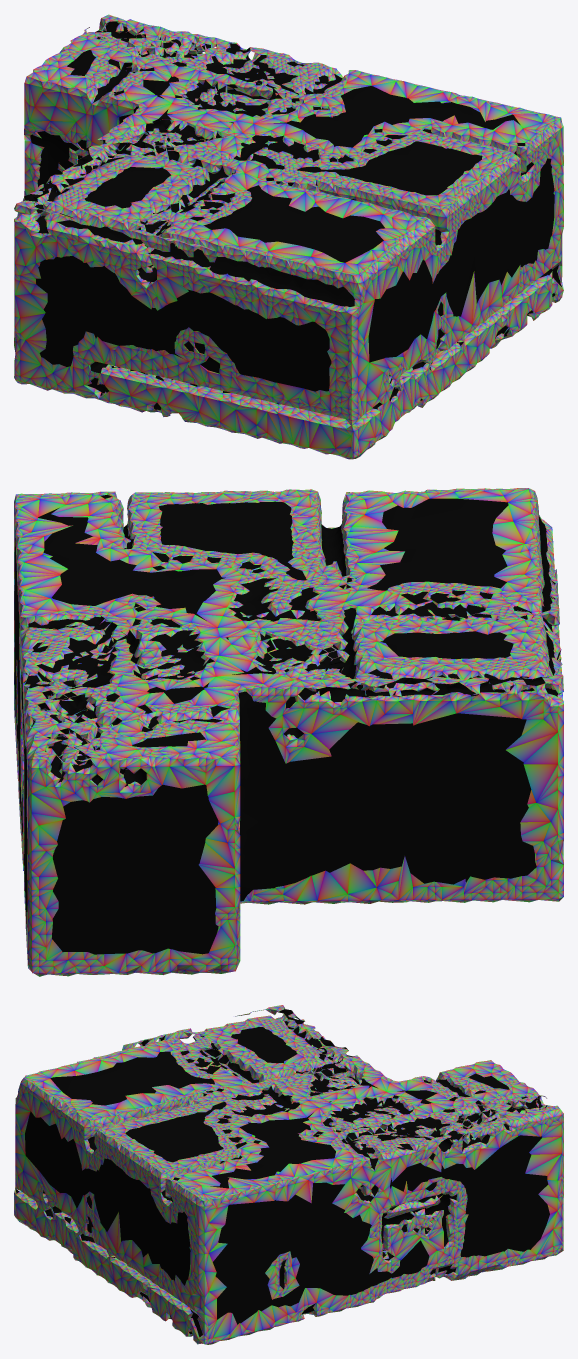
Rendered from lidis_S.fbx.
3 views of the same model, one above another, from view 1: azimuth 30°, elevation 25°; view 2: azimuth 150°, elevation 25°; view 3: azimuth 270°, elevation 25° (orthographic). The views are drawn at different scales.
Parts seen in each view (by area): view 1: Wireframe, LobbySceneMeshOverride [GLOBAL_MESH_0075_V]; view 2: Wireframe, LobbySceneMeshOverride [GLOBAL_MESH_0075_V]; view 3: Wireframe, LobbySceneMeshOverride [GLOBAL_MESH_0075_V].
Boxes of the visible parts, box(x1,y1,x2,y2) form: Wireframe: box(14, 14, 563, 459); LobbySceneMeshOverride [GLOBAL_MESH_0075_V]: box(21, 21, 561, 409); Wireframe: box(14, 488, 563, 976); LobbySceneMeshOverride [GLOBAL_MESH_0075_V]: box(14, 492, 560, 954); Wireframe: box(14, 1005, 563, 1344); LobbySceneMeshOverride [GLOBAL_MESH_0075_V]: box(15, 1007, 549, 1337).
Size of the model in its own units: 990 by 340 by 1160.
